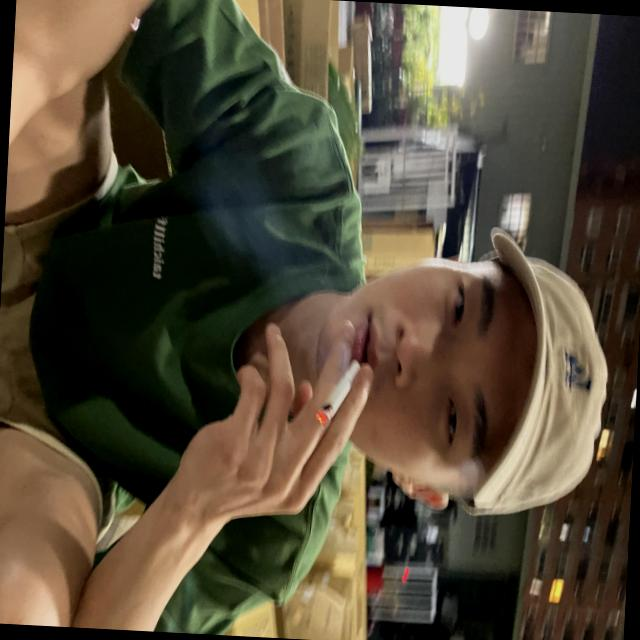smoke: (299, 348, 372, 461)
